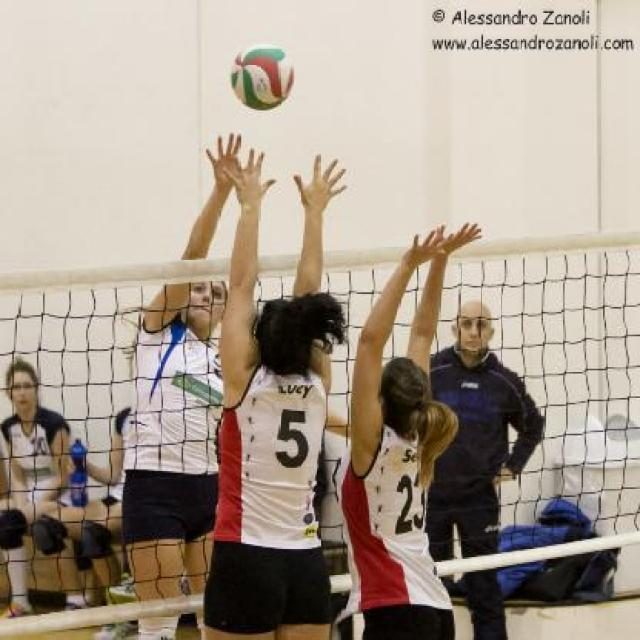volleyball: (230, 40, 294, 111)
